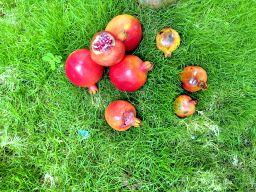pomegranate: (65, 48, 104, 93), (108, 55, 154, 92), (105, 14, 142, 52), (103, 99, 142, 132), (89, 32, 127, 65), (155, 25, 181, 58), (181, 66, 208, 94), (172, 94, 198, 119)
